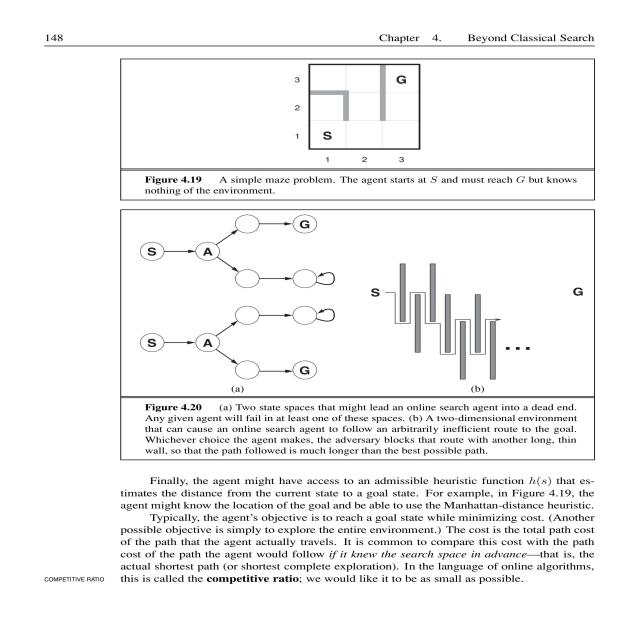diagram: (127, 208, 623, 464), (122, 60, 604, 206)
